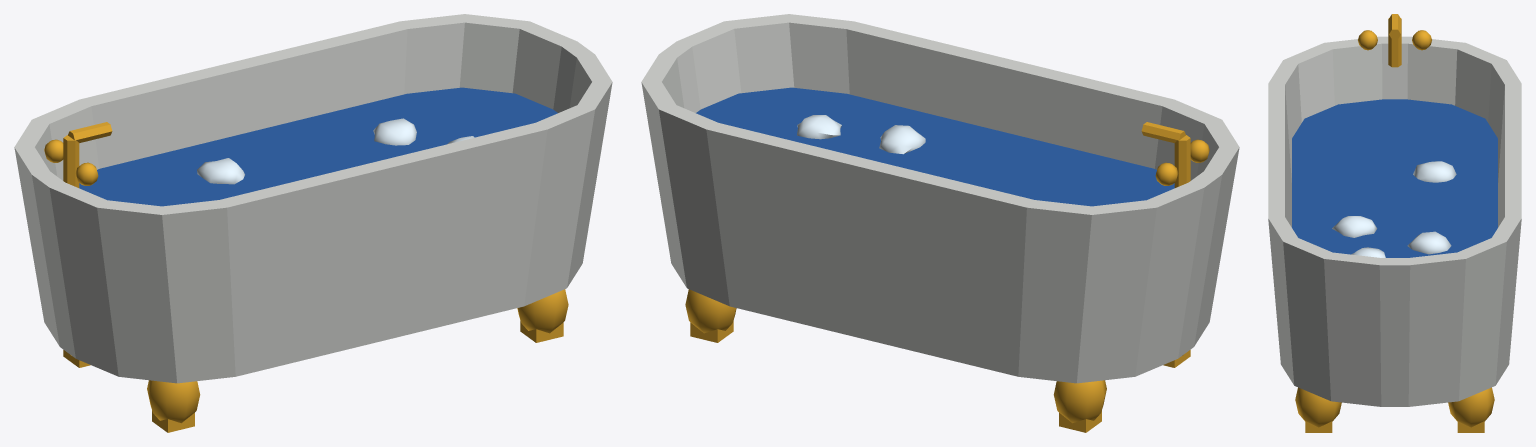
The model's file is bathtub.glb.
3 renders of one model, left to right at view 1: azimuth 30°, elevation 25°; view 2: azimuth 150°, elevation 25°; view 3: azimuth 270°, elevation 25°, orthographic. The views are drawn at different scales.
Visible parts, largest first — view 1: Bathtub, Bath water, Bathtub feet, Bath taps, Bath foam; view 2: Bathtub, Bath water, Bathtub feet, Bath taps, Bath foam; view 3: Bathtub, Bath water, Bathtub feet, Bath foam, Bath taps.
Boxes of the visible parts, bbox=[...] form: Bathtub: bbox=[14, 14, 612, 383]; Bath water: bbox=[79, 87, 557, 206]; Bathtub feet: bbox=[63, 289, 568, 432]; Bath taps: bbox=[44, 122, 112, 187]; Bath foam: bbox=[197, 118, 474, 184]; Bathtub: bbox=[641, 14, 1239, 383]; Bath water: bbox=[696, 87, 1174, 206]; Bathtub feet: bbox=[685, 289, 1190, 432]; Bath taps: bbox=[1141, 122, 1209, 187]; Bath foam: bbox=[797, 115, 925, 154]; Bathtub: bbox=[1268, 36, 1521, 406]; Bath water: bbox=[1292, 99, 1497, 257]; Bathtub feet: bbox=[1295, 387, 1494, 432]; Bath foam: bbox=[1332, 161, 1456, 257]; Bath taps: bbox=[1358, 14, 1431, 67].
Bounding box in the file's own units: 1.6 × 0.7666 × 0.75.
